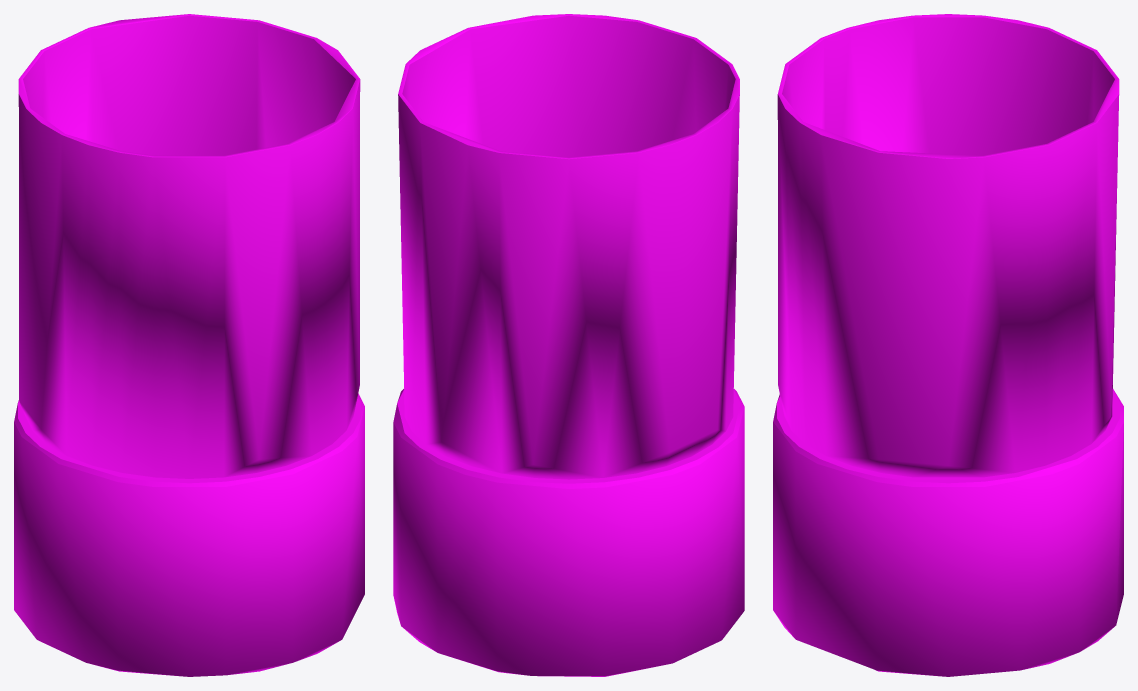
Rendered from B07B8JXP8G.glb.
The picture shows the model from 3 angles, left to right: view 1: azimuth 30°, elevation 25°; view 2: azimuth 150°, elevation 25°; view 3: azimuth 270°, elevation 25°; orthographic projection.
Parts seen in each view (by area): view 1: "$ALMJKNCBNHCAAAAAICBAAAAAAAAAINCBNILA"; view 2: "$ALMJKNCBNHCAAAAAICBAAAAAAAAAINCBNILA"; view 3: "$ALMJKNCBNHCAAAAAICBAAAAAAAAAINCBNILA".
Part boxes in pixels (left/top/right/bottom): "$ALMJKNCBNHCAAAAAICBAAAAAAAAAINCBNILA": left=14, top=14, right=364, bottom=676; "$ALMJKNCBNHCAAAAAICBAAAAAAAAAINCBNILA": left=393, top=14, right=744, bottom=676; "$ALMJKNCBNHCAAAAAICBAAAAAAAAAINCBNILA": left=773, top=14, right=1123, bottom=676.
Size of the model in its own units: 0.1376 by 0.2231 by 0.1368.
